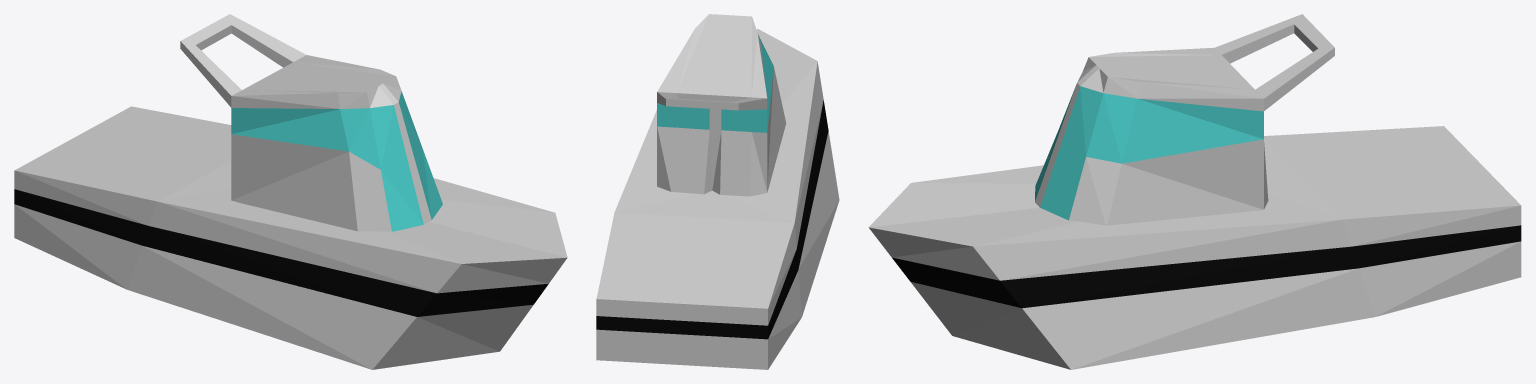
File: Yacht.fbx
3 renders of one model, left to right at view 1: azimuth 30°, elevation 25°; view 2: azimuth 150°, elevation 25°; view 3: azimuth 270°, elevation 25°, orthographic. The views are drawn at different scales.
Visible parts, largest first — view 1: YACHT; view 2: YACHT; view 3: YACHT.
Boxes of the visible parts, x1,y1,x2,y2 form: YACHT: [14, 14, 567, 369]; YACHT: [596, 14, 839, 369]; YACHT: [868, 14, 1521, 369].
Size of the model in its own units: 220 by 150 by 366.
